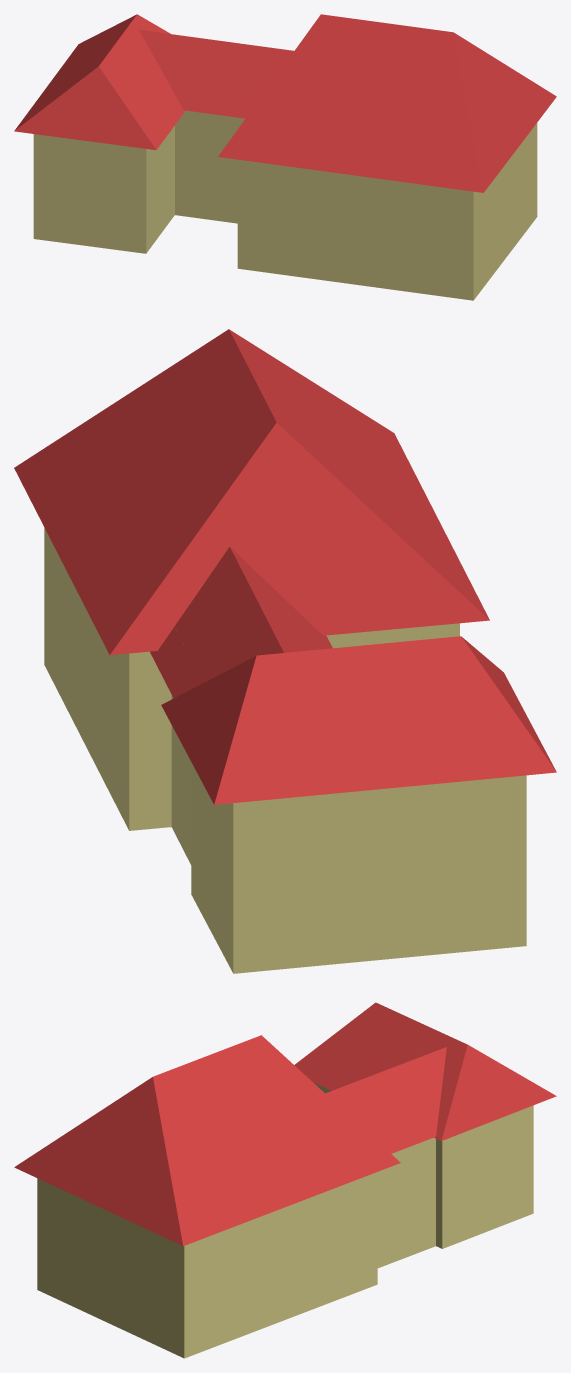
The picture shows the model from 3 angles, top to bottom: view 1: azimuth 30°, elevation 25°; view 2: azimuth 150°, elevation 25°; view 3: azimuth 270°, elevation 25°; orthographic projection. The views are drawn at different scales.
Visible parts, largest first — view 1: group_7, group_9, group_5, group_3, group_11, group_13, group_8, group_4; view 2: group_7, group_5, group_3, group_9, group_11, group_8, group_4, group_13; view 3: group_7, group_9, group_3, group_5, group_11, group_13, group_8, group_4.
Boxes of the visible parts, <box> form: group_7: <box>218,14,556,192</box>; group_9: <box>237,123,537,300</box>; group_5: <box>33,110,189,253</box>; group_3: <box>14,14,173,149</box>; group_11: <box>139,30,293,118</box>; group_13: <box>189,111,244,223</box>; group_8: <box>220,83,555,191</box>; group_4: <box>15,37,185,149</box>; group_7: <box>14,329,489,655</box>; group_5: <box>191,762,526,973</box>; group_3: <box>161,636,556,804</box>; group_9: <box>44,528,459,836</box>; group_11: <box>150,547,332,698</box>; group_8: <box>16,416,489,652</box>; group_4: <box>162,664,556,804</box>; group_13: <box>177,735,191,864</box>; group_7: <box>14,1035,400,1245</box>; group_9: <box>37,1172,377,1358</box>; group_3: <box>294,1002,556,1140</box>; group_5: <box>313,1082,533,1250</box>; group_11: <box>325,1047,446,1153</box>; group_13: <box>377,1141,423,1268</box>; group_8: <box>15,1138,398,1245</box>; group_4: <box>295,1049,554,1139</box>.
Bounding box in the file's own units: 32.37 × 32.98 × 15.49.
